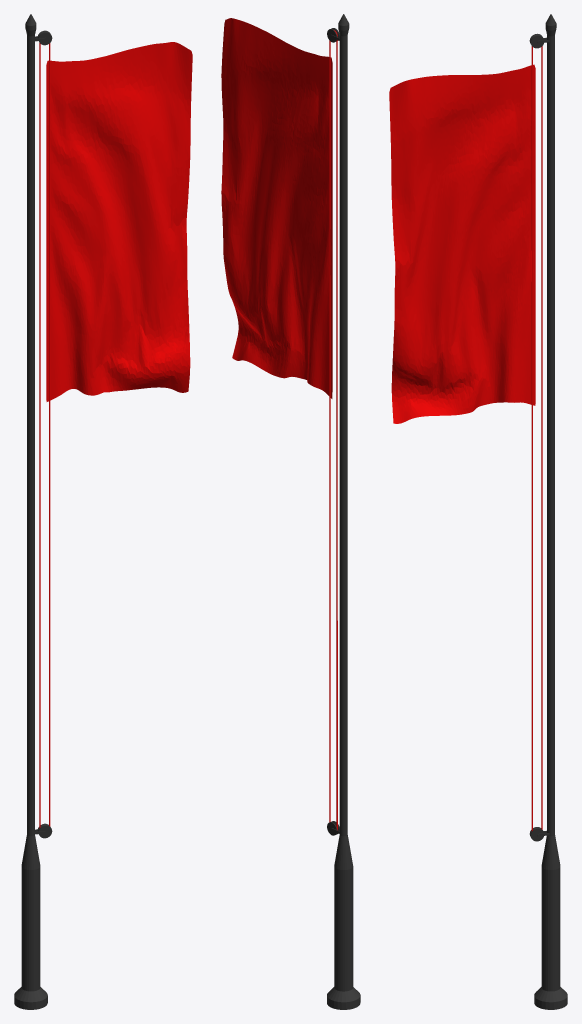
File: flag02.FBX
3 views of the same model, side by side, from view 1: azimuth 90°, elevation 25°; view 2: azimuth 210°, elevation 25°; view 3: azimuth 270°, elevation 25° (orthographic).
Parts seen in each view (by area): view 1: ____; view 2: ____; view 3: ____.
Part boxes in pixels (left/top/right/bottom): ____: left=14, top=14, right=192, bottom=1009; ____: left=221, top=14, right=360, bottom=1009; ____: left=389, top=14, right=567, bottom=1009.
Bounding box in the file's own units: 48.43 × 776 × 127.
